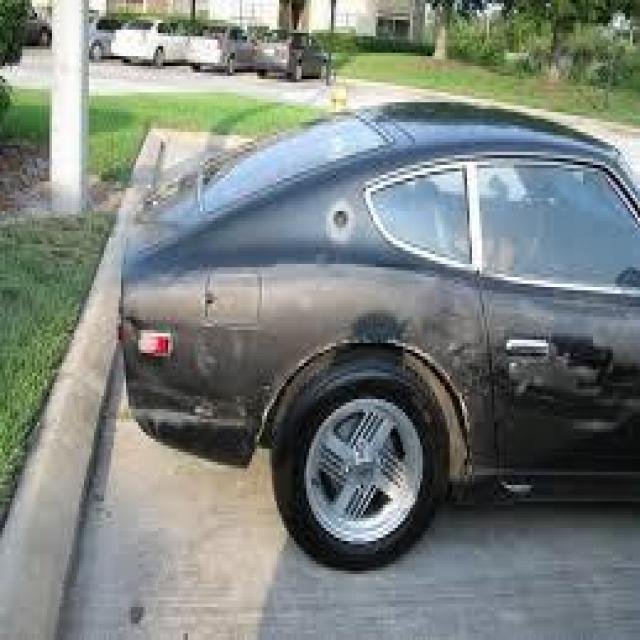damaged: (338, 307, 638, 432), (126, 376, 274, 452)
